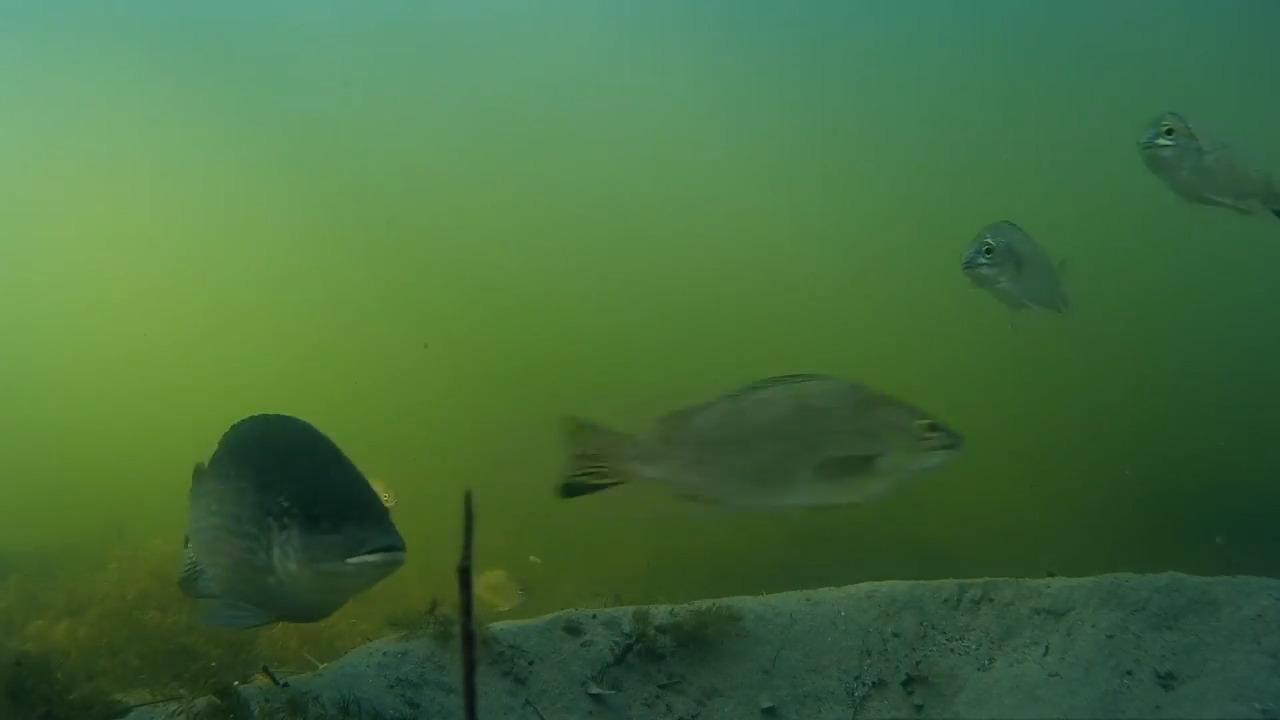Tilapia: (145, 386, 418, 648), (553, 370, 976, 538), (933, 182, 1104, 328), (1131, 86, 1280, 226)
